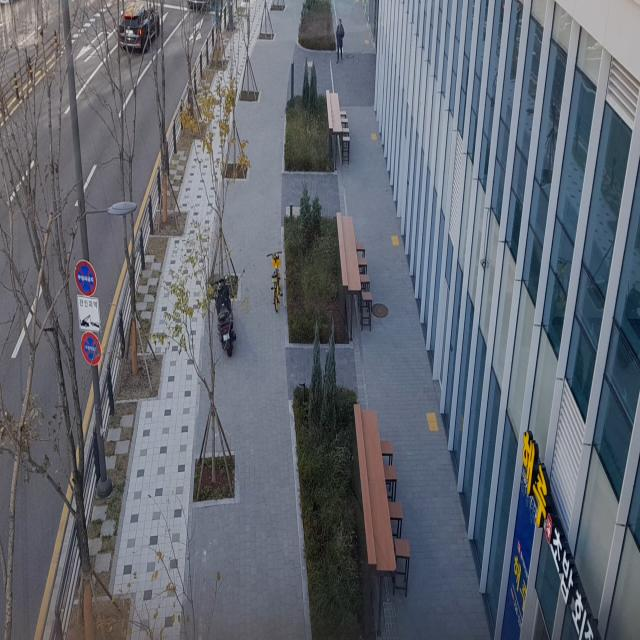Car: (114, 0, 170, 63)
